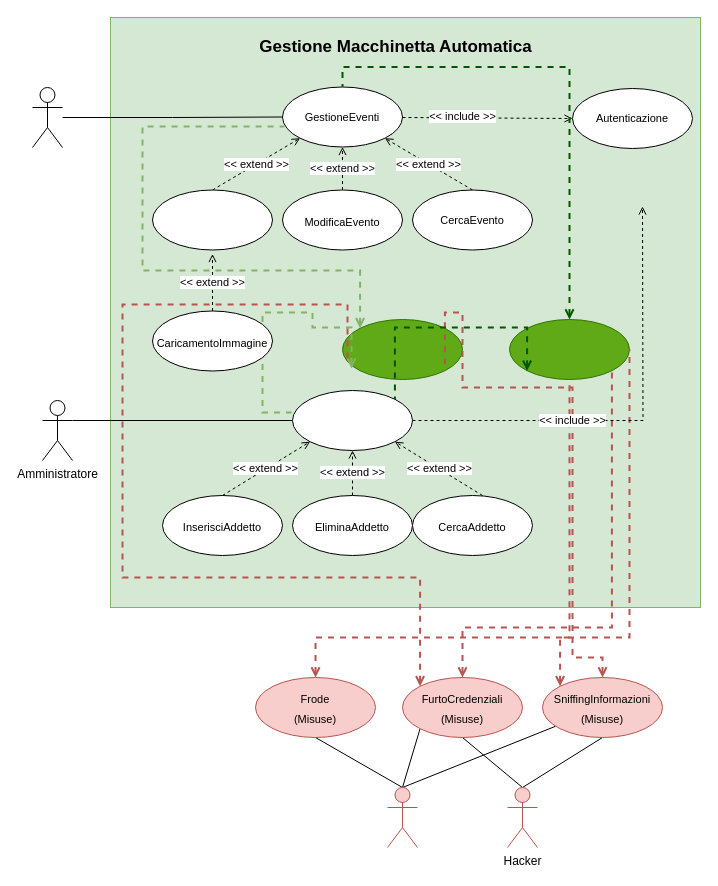
Image size: 718x886. Some labels were removed from this diagram. Here are the shapes that lost their labels. From the top down, the centre of each, then its label:
[47,117]: Addetto
[212,219]: InserisciEvento
[402,349]: ControlloAccesso (Security)
[569,349]: GarantireProtezione (Security)
[352,420]: GestioneAddetti
[402,817]: Truffatore
